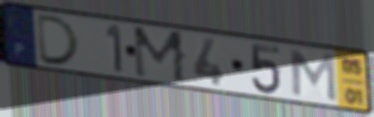1: (104, 23, 125, 76)
4: (191, 36, 227, 88)
5: (249, 41, 282, 95)
D: (35, 13, 83, 68)
M: (131, 24, 189, 85), (289, 47, 339, 104)
